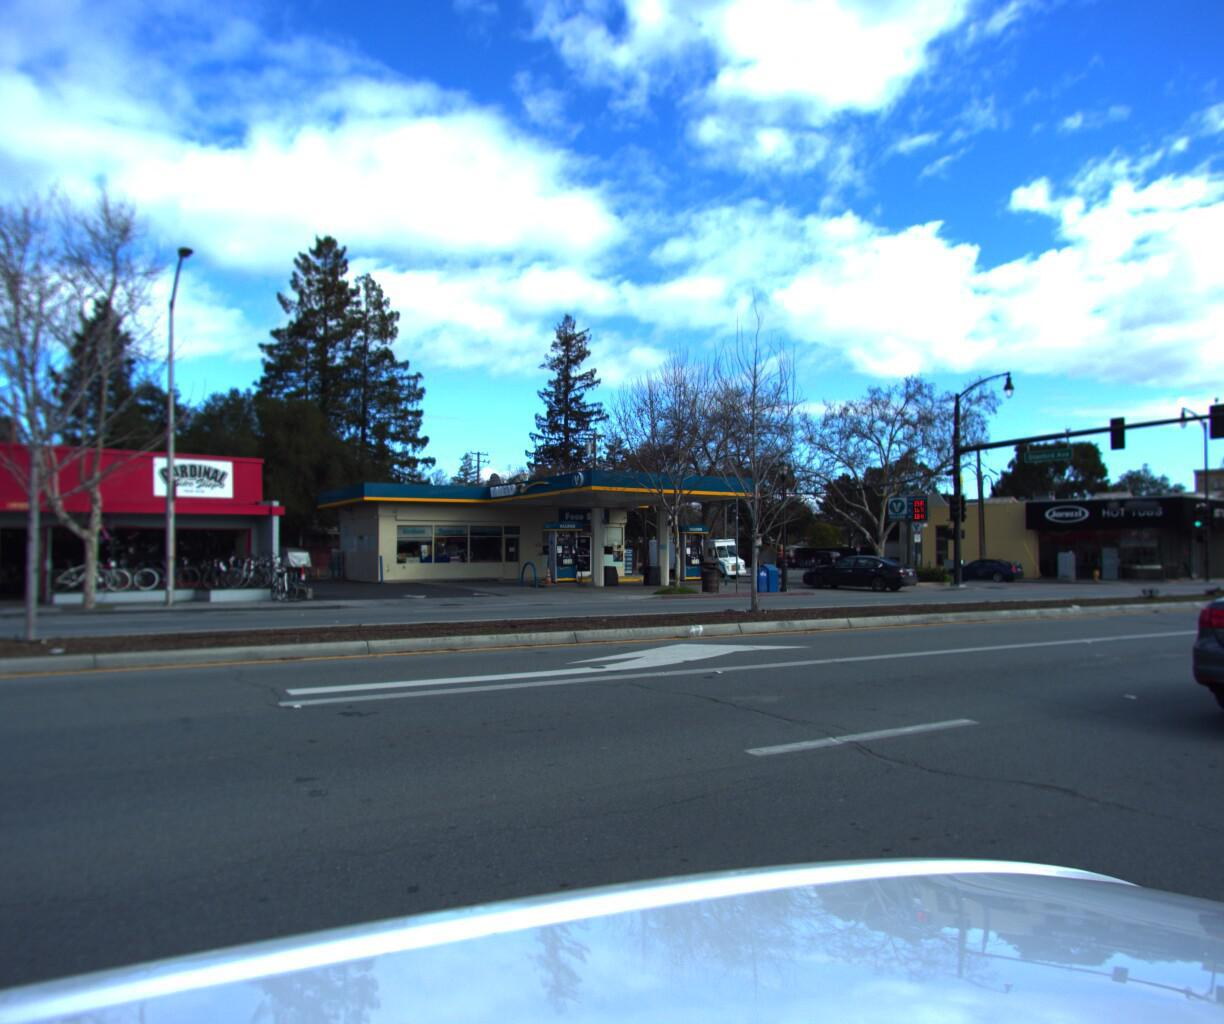bicycle: (45, 561, 98, 597), (27, 567, 79, 603), (75, 566, 126, 602), (106, 566, 157, 600), (273, 566, 318, 600)
car: (1160, 544, 1224, 770), (796, 546, 922, 588), (937, 549, 1026, 579)
truck: (644, 535, 749, 577)
